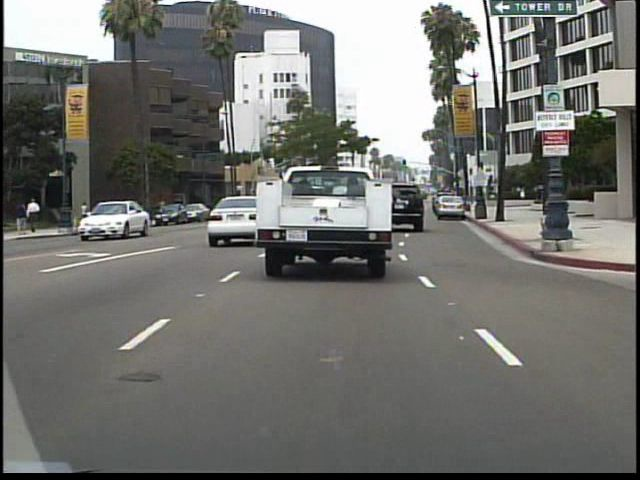person: (28, 195, 45, 234), (15, 198, 29, 236), (537, 183, 551, 216), (82, 199, 92, 219)
